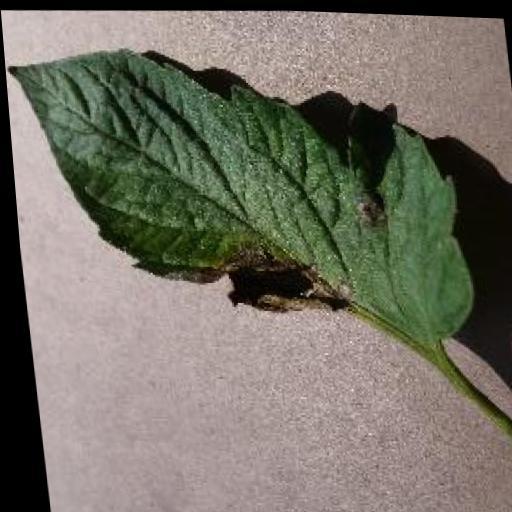Late Blight: (2, 30, 472, 356)
